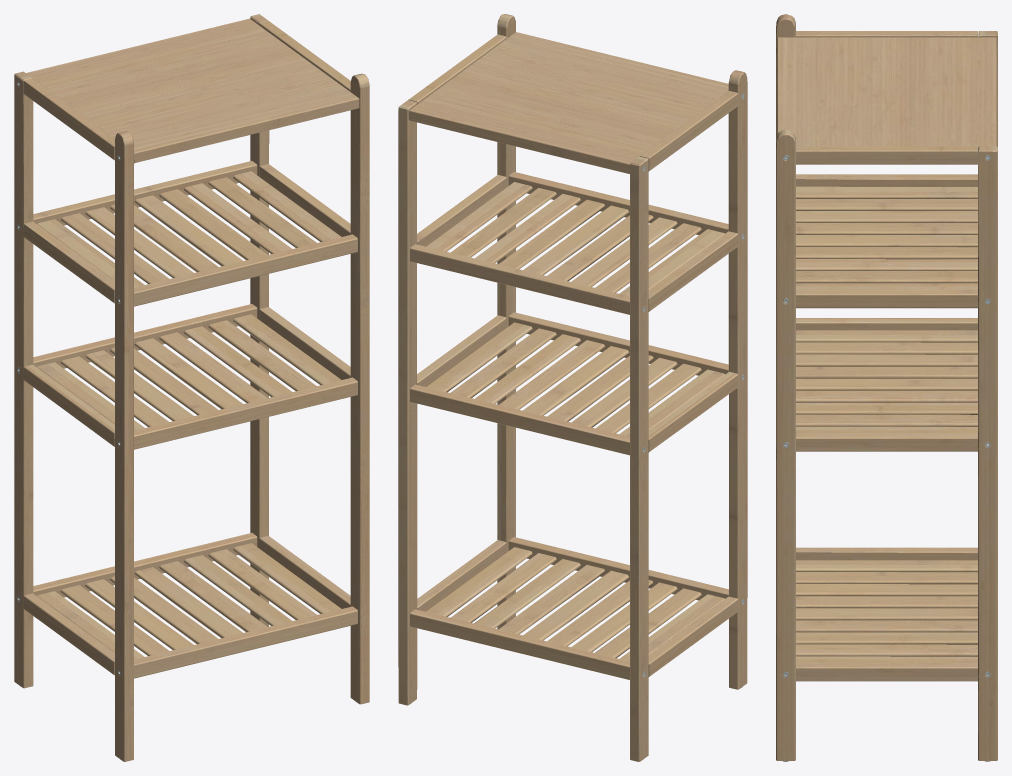
Rendered from stegesund_rega_50632010.glb.
3 views of the same model, side by side, from view 1: azimuth 30°, elevation 25°; view 2: azimuth 150°, elevation 25°; view 3: azimuth 270°, elevation 25° (orthographic). The views are drawn at different scales.
Parts seen in each view (by area): view 1: stegesund_rega_50632010; view 2: stegesund_rega_50632010; view 3: stegesund_rega_50632010.
Boxes of the visible parts, box(x1,y1,x2,y2) form: stegesund_rega_50632010: box(14, 14, 369, 761); stegesund_rega_50632010: box(398, 14, 747, 761); stegesund_rega_50632010: box(776, 14, 997, 761).
Size of the model in its own units: 0.36 by 0.876 by 0.28.
Materials: 1 (1 with a texture image).
